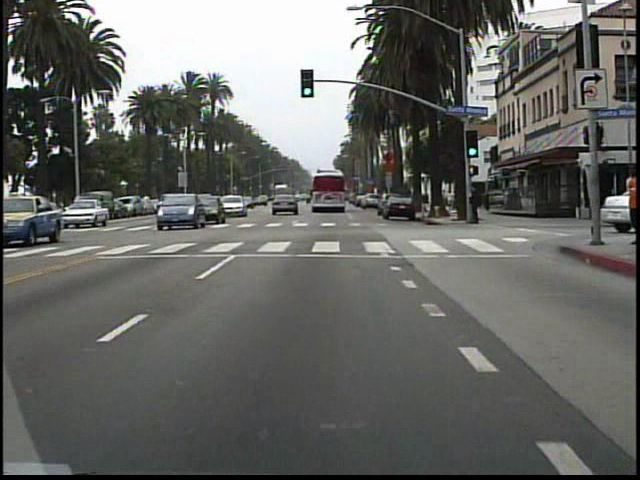person: (466, 180, 483, 228)
